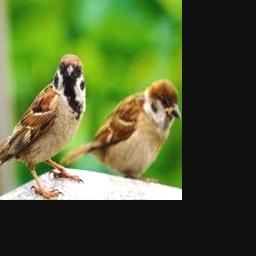Sparrow: (61, 80, 180, 183), (0, 54, 85, 198)
